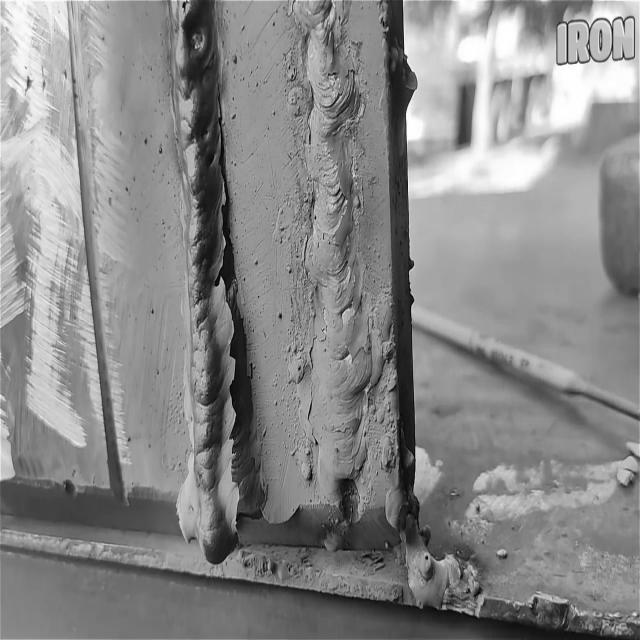Bad Welding: (162, 0, 270, 566), (285, 0, 375, 529)
Crack: (213, 87, 263, 526)
